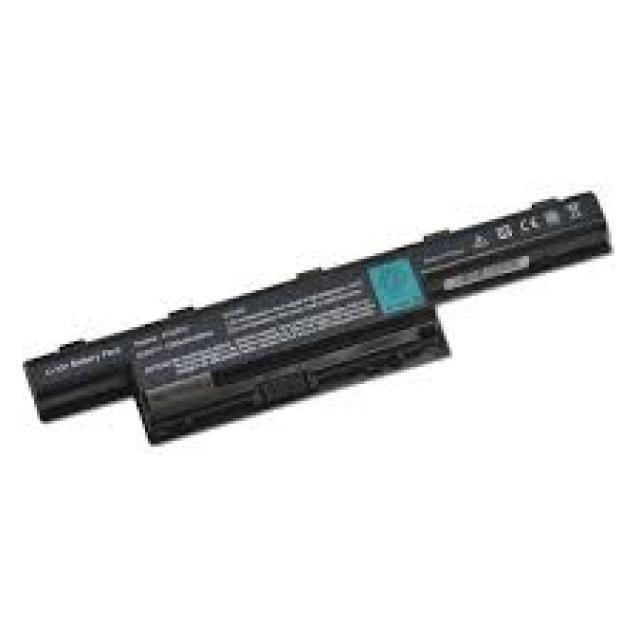Battery: (16, 186, 632, 480)
